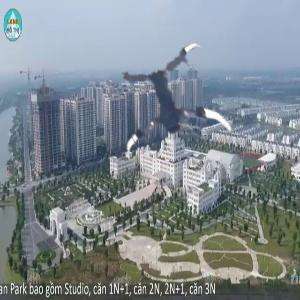drone: (109, 51, 234, 176)
